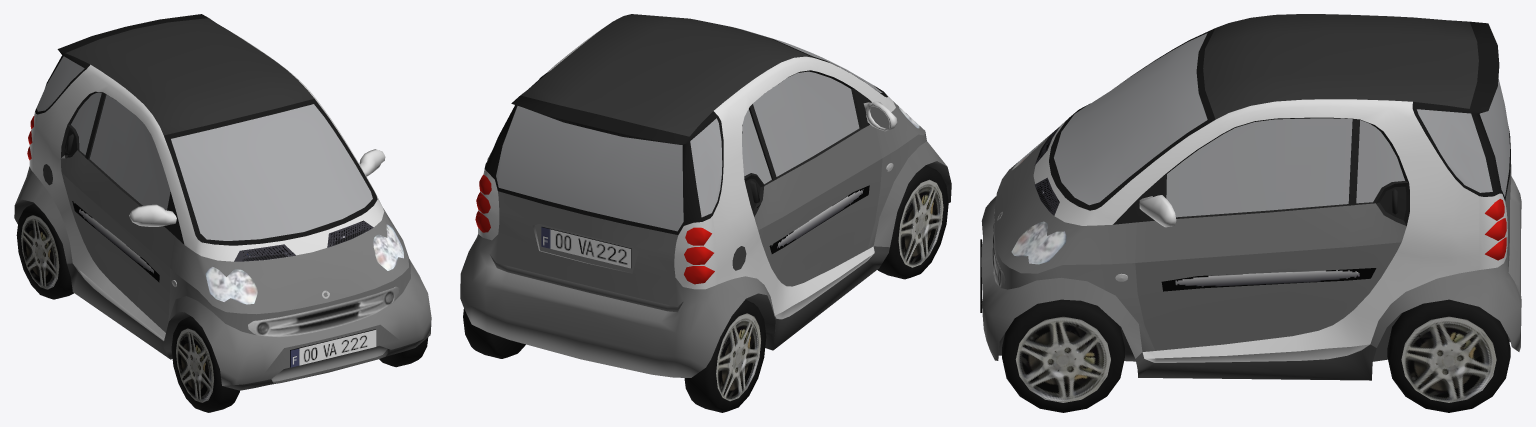
Rendered from car2.glb.
3 views of the same model, side by side, from view 1: azimuth 30°, elevation 25°; view 2: azimuth 150°, elevation 25°; view 3: azimuth 270°, elevation 25° (orthographic). The views are drawn at different scales.
Visible parts, largest first — view 1: smart-car.001_Plane.006; view 2: smart-car.001_Plane.006; view 3: smart-car.001_Plane.006.
Boxes of the visible parts, bbox=[...] form: smart-car.001_Plane.006: bbox=[14, 14, 431, 412]; smart-car.001_Plane.006: bbox=[460, 14, 951, 412]; smart-car.001_Plane.006: bbox=[980, 14, 1521, 412].
Size of the model in its own units: 1.1 by 1 by 1.64.
13 materials, 1 textured.
